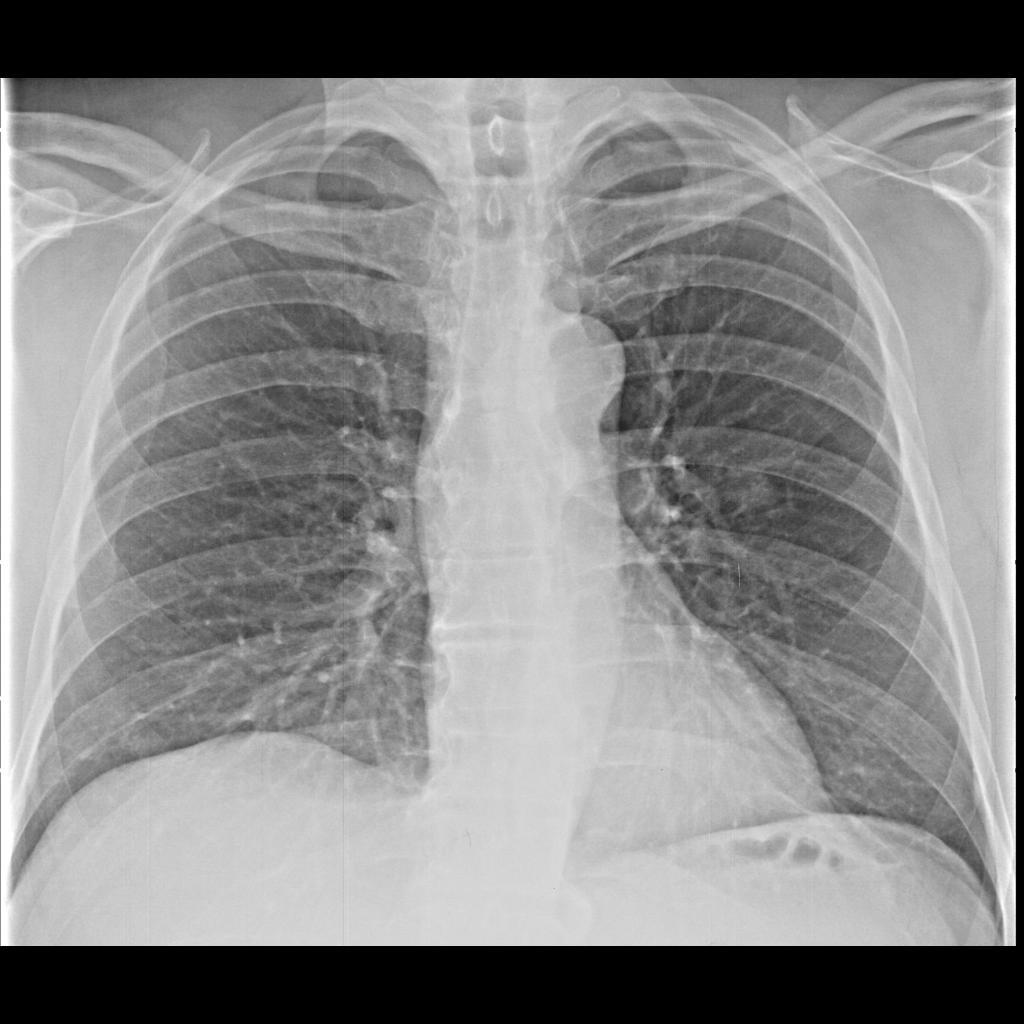Nodule: (726, 464, 780, 517)
